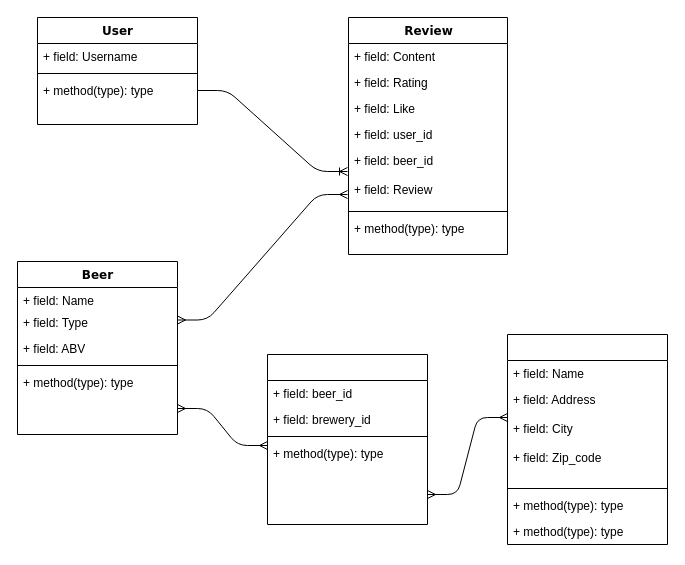
Image size: 685x565. Some labels were removed from this diagram. The shapes that lost their labels are listed below. From the top down, each one's box as (x1, y1, x2, y2) in pixels, then its label:
(266, 354, 428, 524): Beer_Brewery
(506, 334, 668, 544): Brewery
